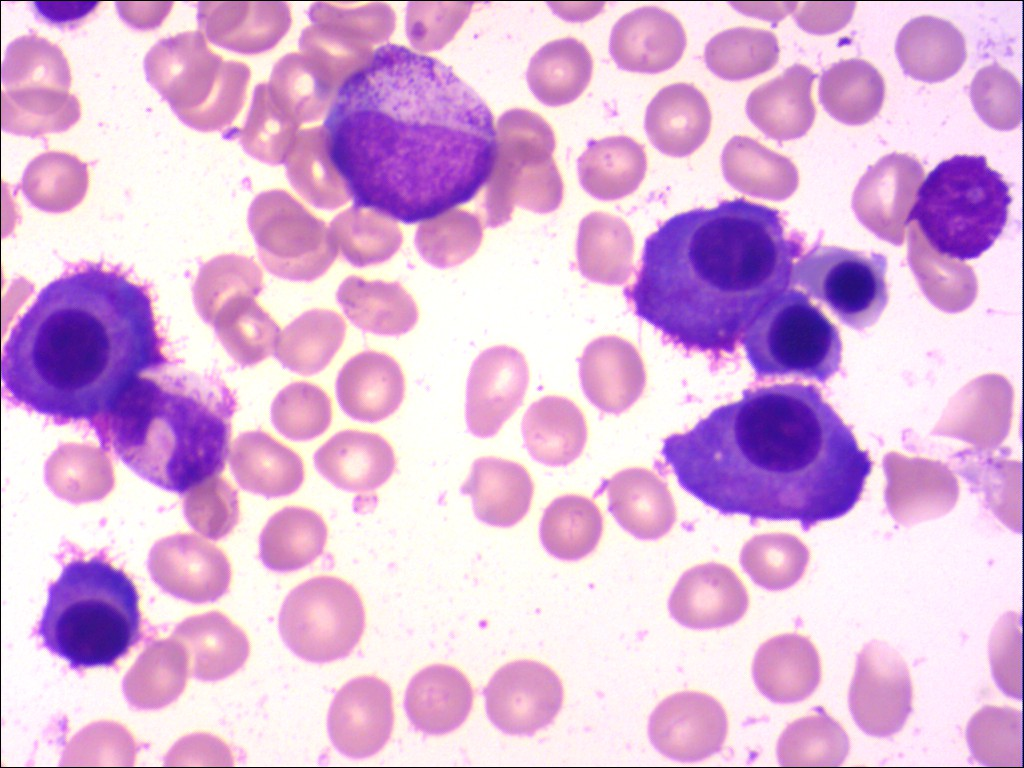23: (739, 284, 847, 388)
24: (792, 244, 893, 337)
3: (319, 39, 504, 227)
5: (105, 362, 240, 496)
51: (658, 381, 875, 534), (619, 194, 808, 363), (1, 262, 175, 427), (34, 552, 144, 674)
x: (900, 152, 1016, 268)
